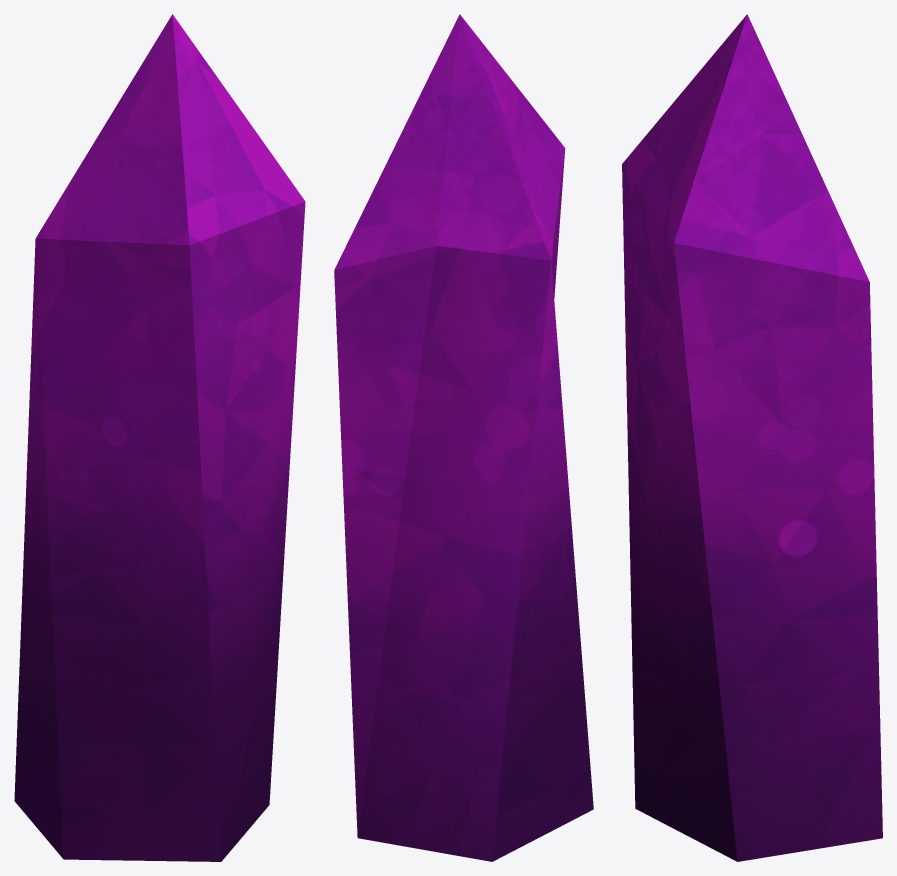
Rendered from P_CRYSTAL FRAGMENT 5.fbx.
The picture shows the model from 3 angles, left to right: view 1: azimuth 30°, elevation 25°; view 2: azimuth 150°, elevation 25°; view 3: azimuth 270°, elevation 25°; orthographic projection. The views are drawn at different scales.
Visible parts, largest first — view 1: Crystal Fragment_5; view 2: Crystal Fragment_5; view 3: Crystal Fragment_5.
Part boxes in pixels (bbox=[...]): Crystal Fragment_5: bbox=[14, 14, 305, 861]; Crystal Fragment_5: bbox=[334, 14, 593, 861]; Crystal Fragment_5: bbox=[622, 14, 882, 861].
Bounding box in the file's own units: 51.1 × 180 × 52.96.
